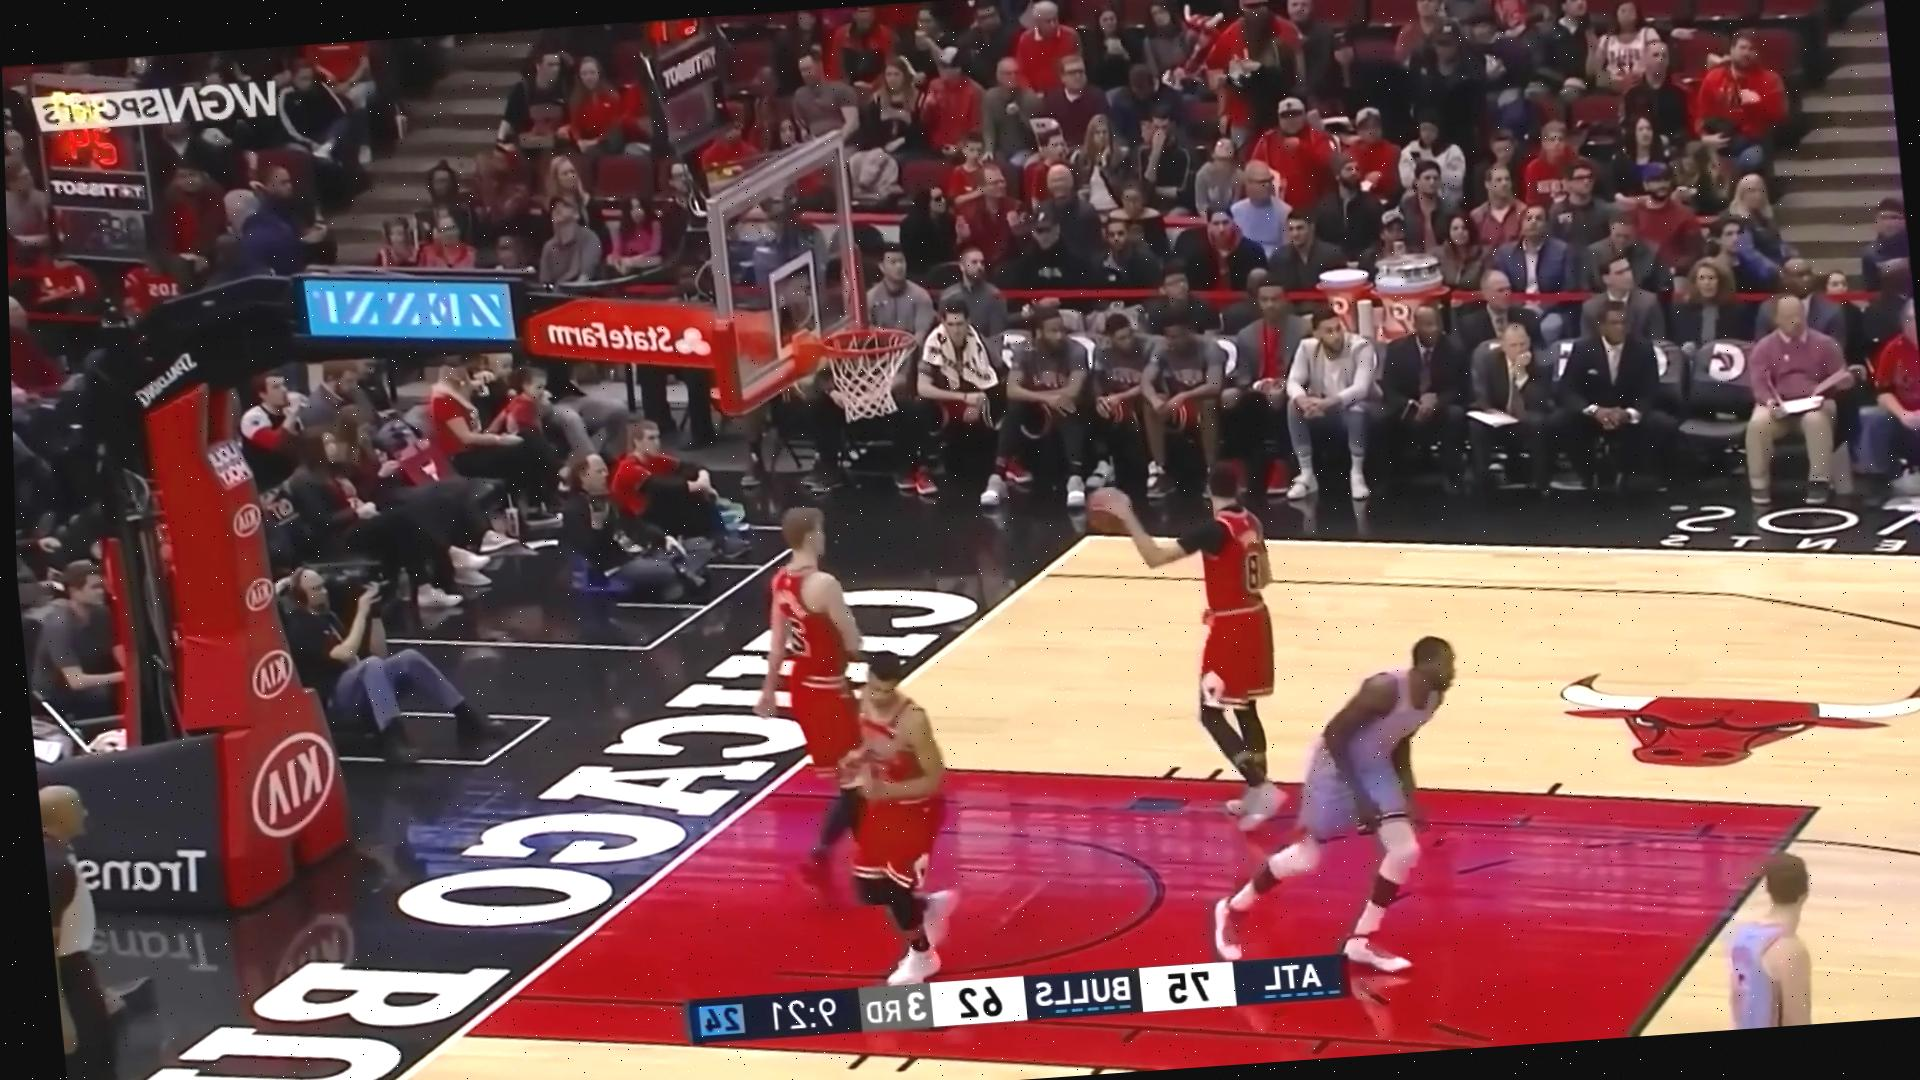no_foul: (1142, 455, 1606, 959)
